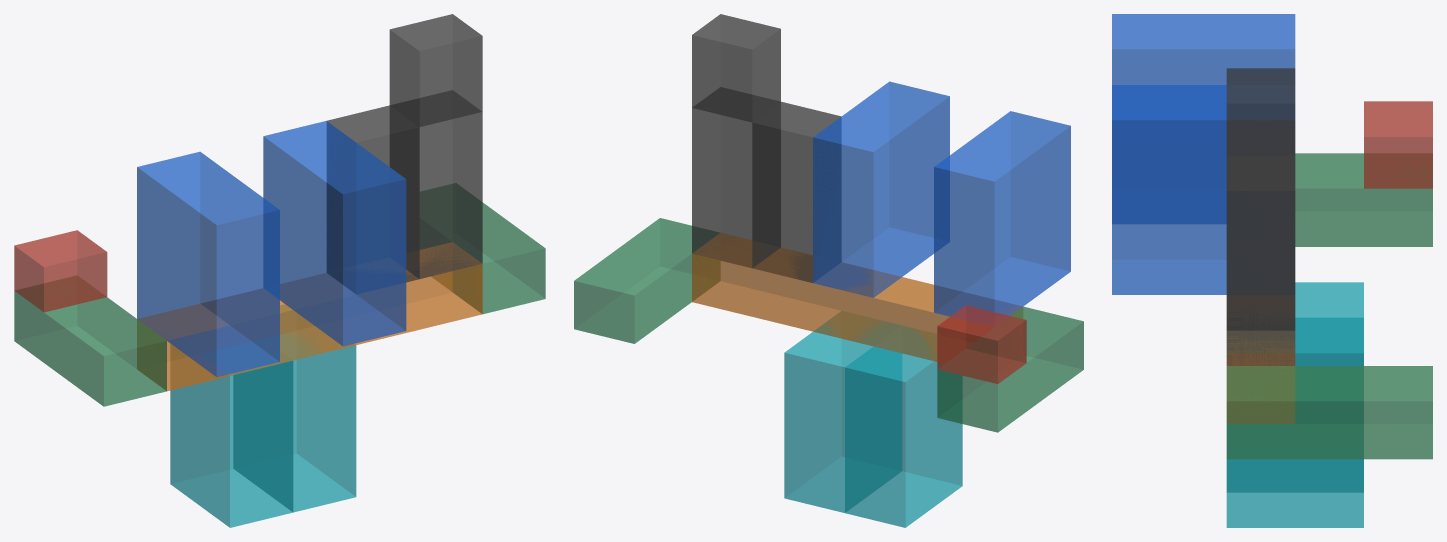
Rendered from refined_interior.obj.
3 views of the same model, side by side, from view 1: azimuth 30°, elevation 25°; view 2: azimuth 150°, elevation 25°; view 3: azimuth 270°, elevation 25° (orthographic). The views are drawn at different scales.
Visible parts, largest first — view 1: K_0_2, K_0_0, corridor_0, F_0_2, F_0_1, box_0_4, box_0_3, stair_W, stair_E, room_0_4, entrance; view 2: K_0_2, K_0_0, corridor_0, F_0_2, F_0_1, box_0_3, box_0_4, stair_W, stair_E, room_0_4, entrance; view 3: K_0_0, K_0_2, stair_E, box_0_4, F_0_2, stair_W, F_0_1, room_0_4, box_0_3, entrance, corridor_0.
Part boxes in pixels (x1,y1,x2,y2): K_0_2: (263,121,406,346); K_0_0: (137,151,279,376); corridor_0: (137,242,482,391); F_0_2: (233,305,356,512); F_0_1: (170,345,293,527); box_0_4: (390,90,482,278); box_0_3: (327,105,419,294); stair_W: (14,276,166,406); stair_E: (420,183,545,314); room_0_4: (389,14,482,126); entrance: (14,230,107,312); K_0_2: (813,81,949,297); K_0_0: (934,111,1070,325); corridor_0: (692,233,1022,362); F_0_2: (784,311,901,512); F_0_1: (845,326,962,527); box_0_3: (752,101,841,282); box_0_4: (692,87,780,267); stair_W: (937,306,1083,432); stair_E: (574,218,720,343); room_0_4: (692,14,780,122); entrance: (937,305,1026,383); K_0_0: (1112,14,1295,223); K_0_2: (1112,85,1294,294); stair_E: (1226,366,1432,459); box_0_4: (1226,156,1295,365); F_0_2: (1226,317,1363,527); stair_W: (1295,153,1432,246); F_0_1: (1227,282,1363,492); room_0_4: (1226,68,1295,190); box_0_3: (1227,121,1294,330); entrance: (1364,101,1432,188); corridor_0: (1227,331,1294,423).
Bounding box in the file's own units: 25.62 × 23.85 × 14.
